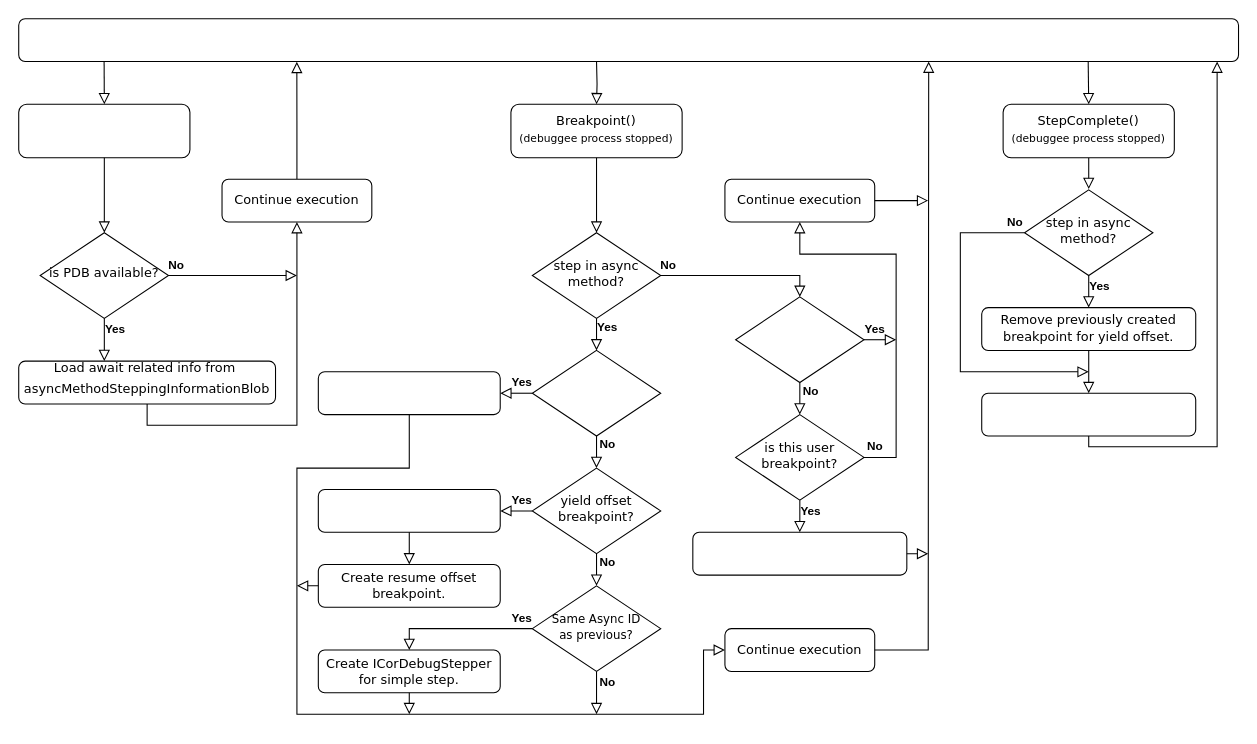
Image size: 1257x744. Some labels were removed from this diagram. The shapes that lost their labels are listed below. From the top down, each one's centre as x and y in pixels, then its label:
At [628,40]: "ICorDebugManagedCallback".
At [104,130]: "LoadModule() (debuggee process stopped)".
At [799,339]: "have stepper that ends on this line?".
At [408,393]: "Create ICorDebugStepper for simple step-out.".
At [596,392]: "wait notification method breakpoint?".
At [1088,414]: "Emit step complete event.".
At [408,510]: "Store current Async ID.".
At [799,553]: "Emit breakpoint event.".
